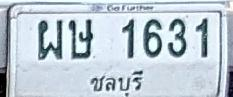1: (195, 18, 208, 58), (122, 18, 134, 58)
3: (167, 18, 187, 57)
6: (143, 18, 162, 57)
A28: (37, 18, 63, 60)
A39: (68, 18, 93, 59)
CBI: (84, 66, 147, 97)
